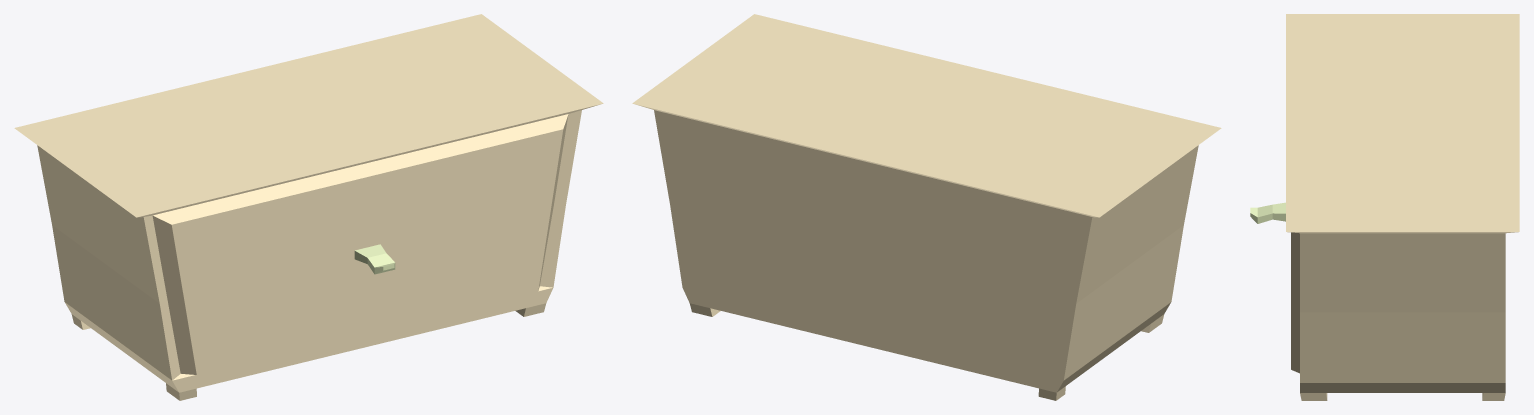
File: closet_short.fbx
3 views of the same model, side by side, from view 1: azimuth 30°, elevation 25°; view 2: azimuth 150°, elevation 25°; view 3: azimuth 270°, elevation 25° (orthographic). The views are drawn at different scales.
Parts seen in each view (by area): view 1: Cube; view 2: Cube; view 3: Cube.
Boxes of the visible parts, x1=… form: Cube: x1=14, y1=14, x2=603, y2=400; Cube: x1=632, y1=14, x2=1221, y2=400; Cube: x1=1250, y1=14, x2=1519, y2=400.
Bounding box in the file's own units: 183 × 75.69 × 95.78.
